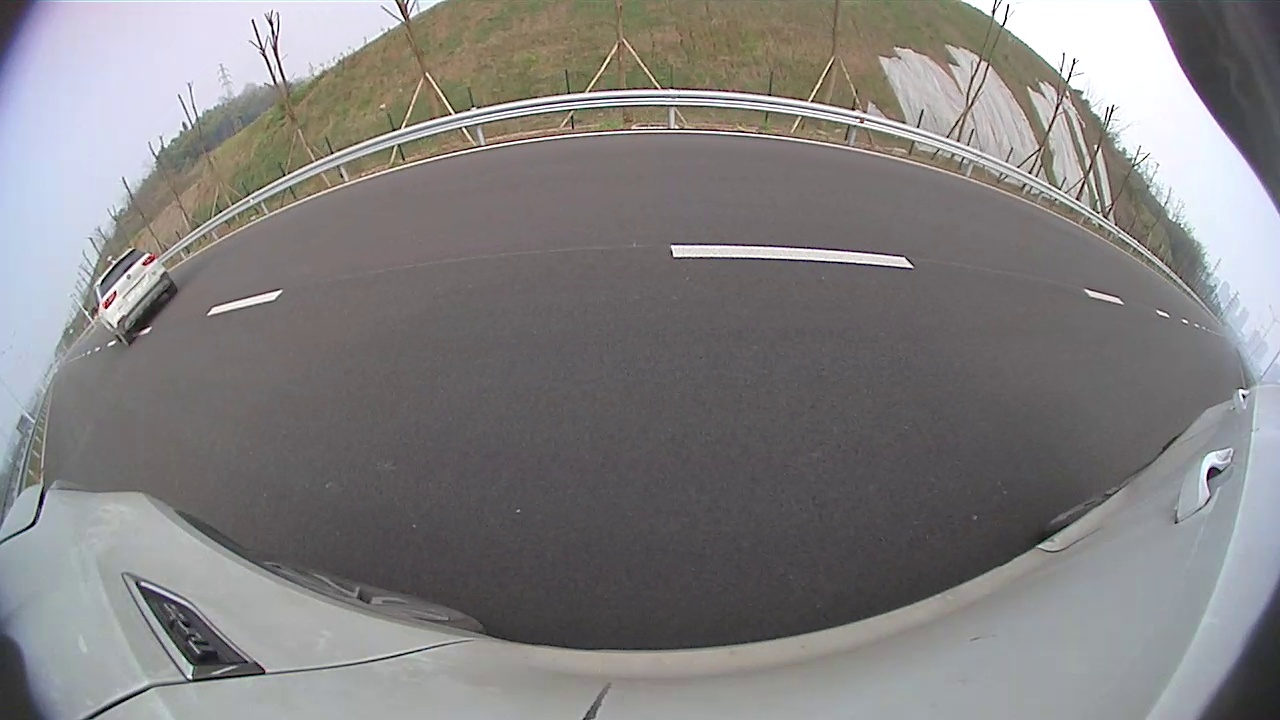car: (554, 129, 653, 214)
